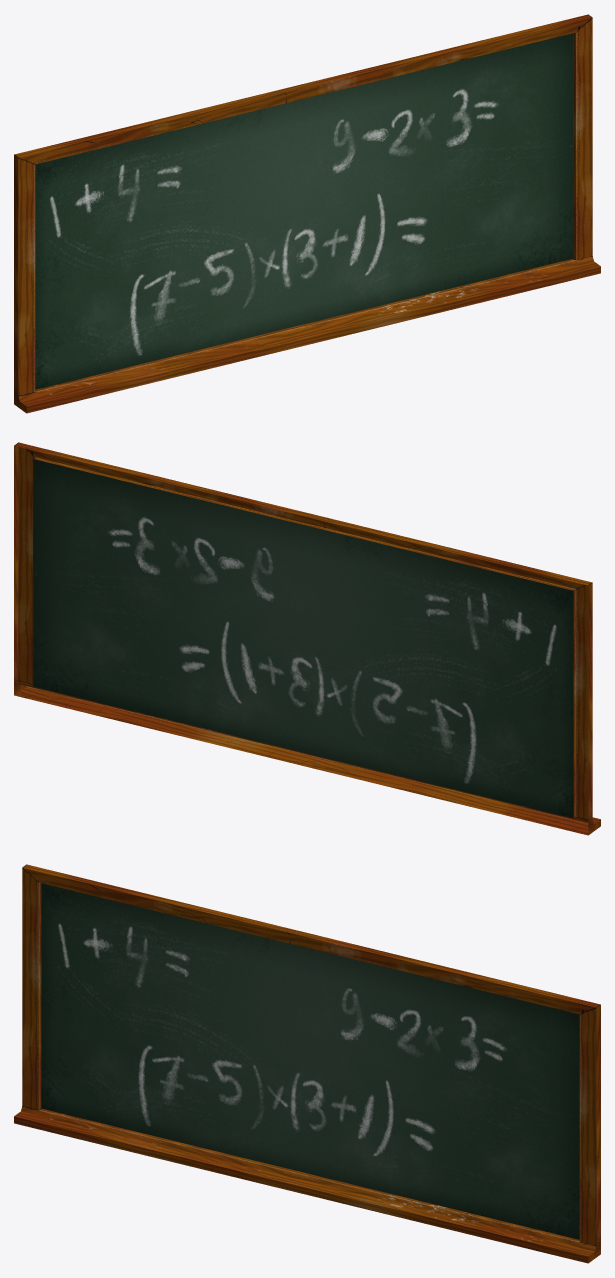
3 views of the same model, one above another, from view 1: azimuth 30°, elevation 25°; view 2: azimuth 150°, elevation 25°; view 3: azimuth 330°, elevation 25° (orthographic).
Visible parts, largest first — view 1: school_board.mo; view 2: school_board.mo; view 3: school_board.mo.
Boxes of the visible parts, box(x1,y1,x2,y2) form: school_board.mo: box(14, 14, 600, 413); school_board.mo: box(14, 442, 600, 835); school_board.mo: box(14, 864, 600, 1263).
Size of the model in its own units: 433 by 180 by 16.54.
Materials: 1 (1 with a texture image).
